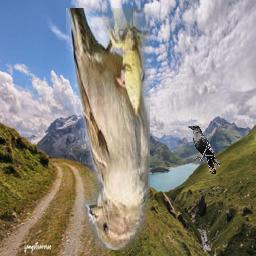Crow: (188, 124, 221, 174)
Sparrow: (66, 8, 150, 250)
